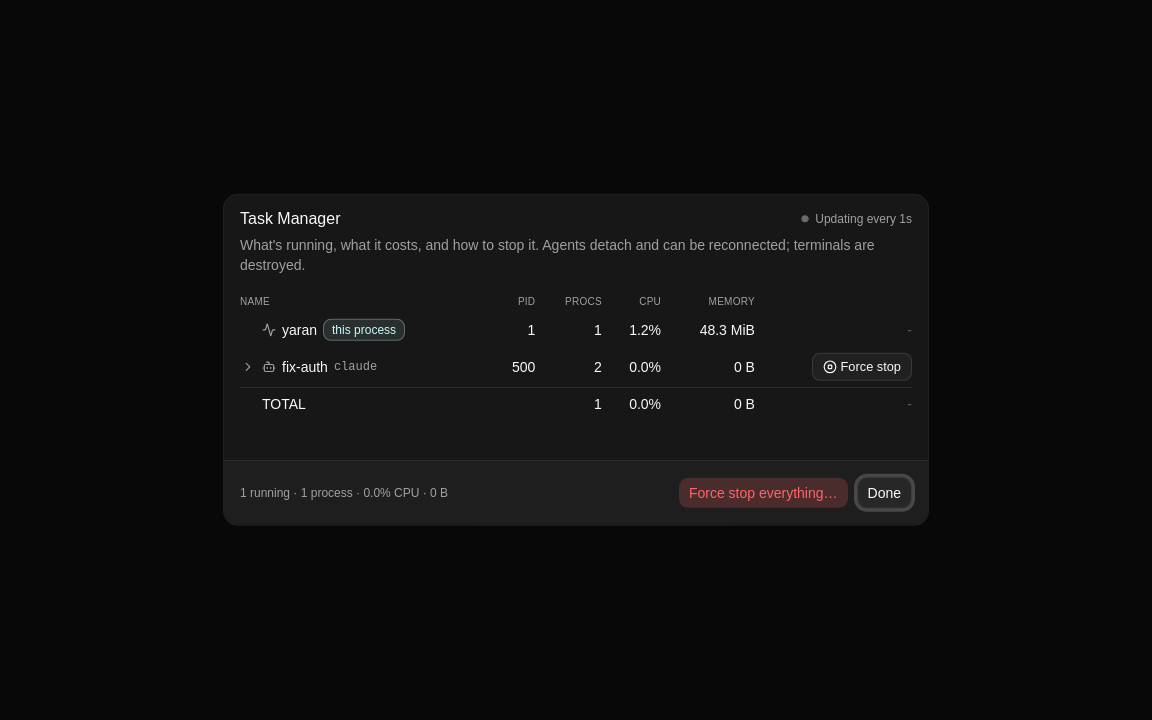
Test: TaskManagerDialog › offers_an_expand_toggle_for_a_row_with_a_real_breakdown
Expected: the text "node" is not shown
Click the button named "Show fix-auth child processes": (248, 367) x1=240 y1=359 x2=256 y2=375
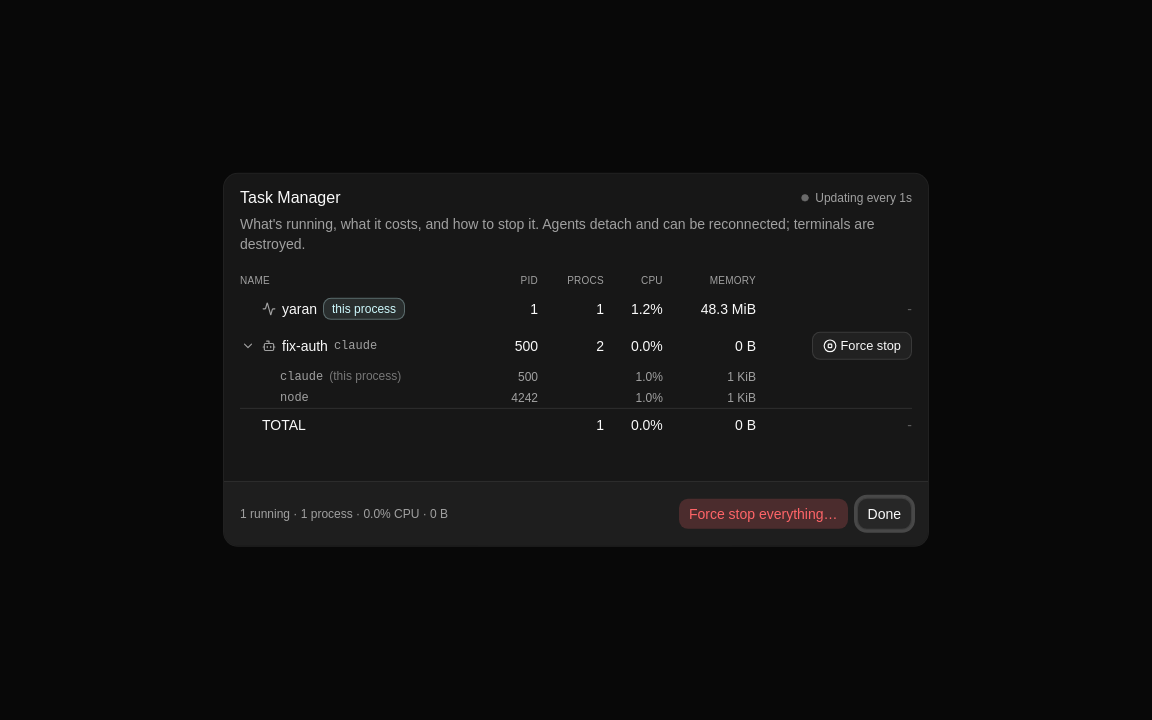
Result: the text "node" is shown at x1=280 y1=391 x2=309 y2=405
